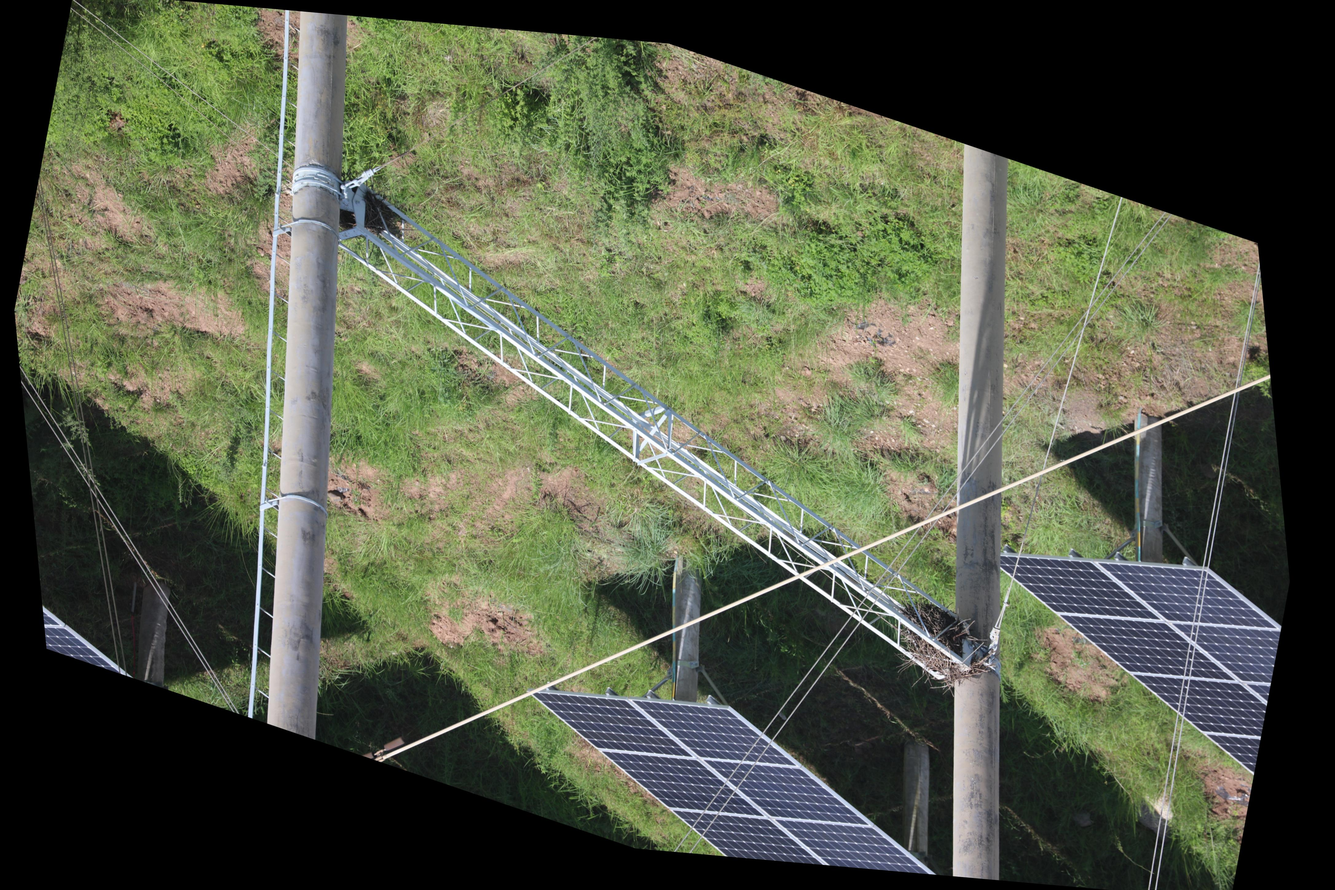damper_defect: (356, 721, 414, 771)
